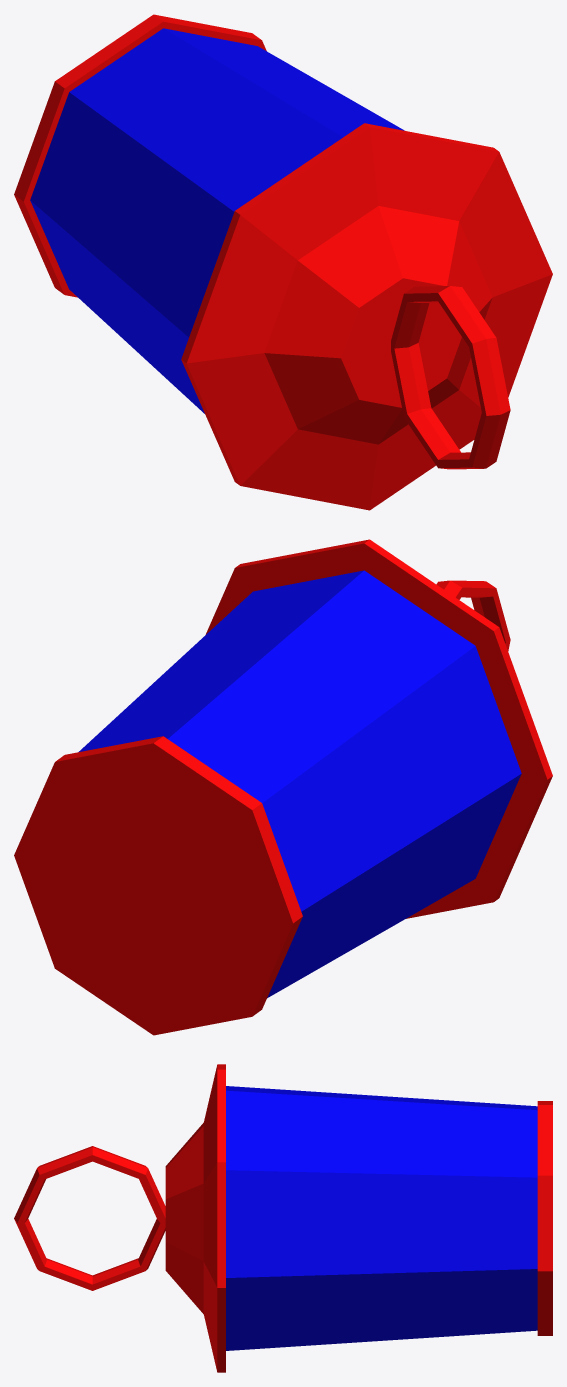
The model's file is SM_Lamp.fbx.
3 renders of one model, top to bottom at view 1: azimuth 30°, elevation 25°; view 2: azimuth 150°, elevation 25°; view 3: azimuth 270°, elevation 25°, orthographic. The views are drawn at different scales.
Visible parts, largest first — view 1: transform1; view 2: transform1; view 3: transform1.
Boxes of the visible parts, x1,y1,x2,y2 form: transform1: (14, 14, 552, 510); transform1: (14, 539, 552, 1035); transform1: (14, 1064, 552, 1372).
Size of the model in its own units: 262 by 262 by 431.
